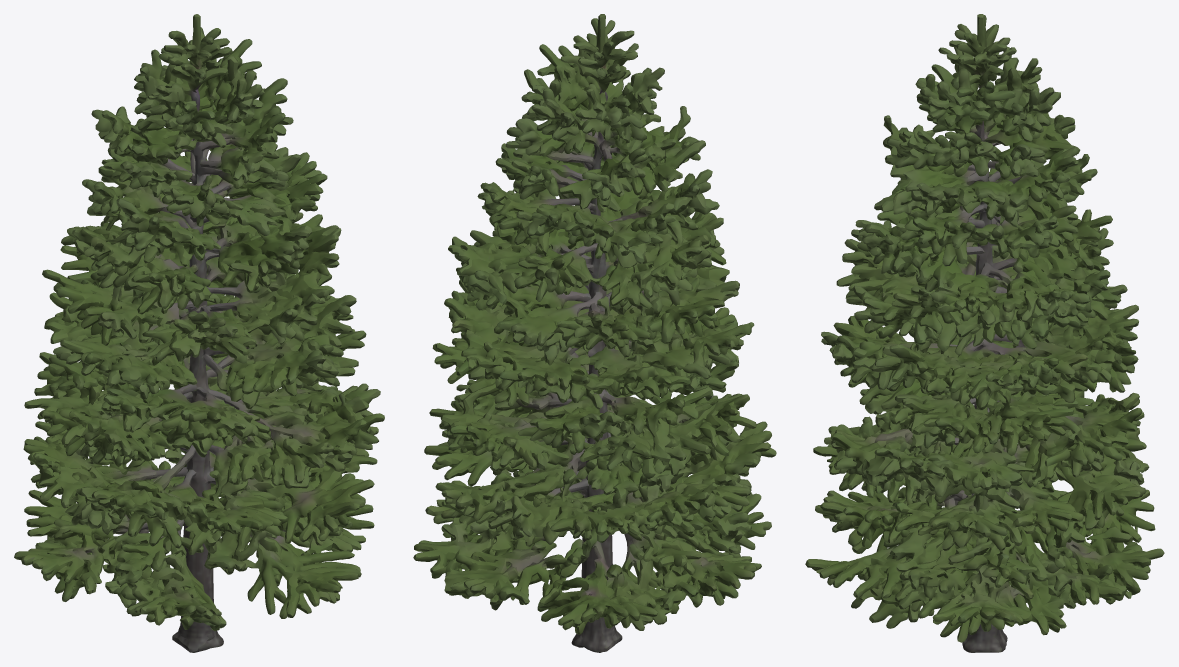
The model's file is task-4897066.glb.
The picture shows the model from 3 angles, left to right: view 1: azimuth 30°, elevation 25°; view 2: azimuth 150°, elevation 25°; view 3: azimuth 270°, elevation 25°; orthographic projection.
Parts seen in each view (by area): view 1: world; view 2: world; view 3: world.
Boxes of the visible parts, bbox=[...] form: world: bbox=[14, 14, 384, 652]; world: bbox=[413, 14, 776, 652]; world: bbox=[805, 14, 1164, 652].
Size of the model in its own units: 8.22 by 15 by 7.77.
1 material, 1 textured.
